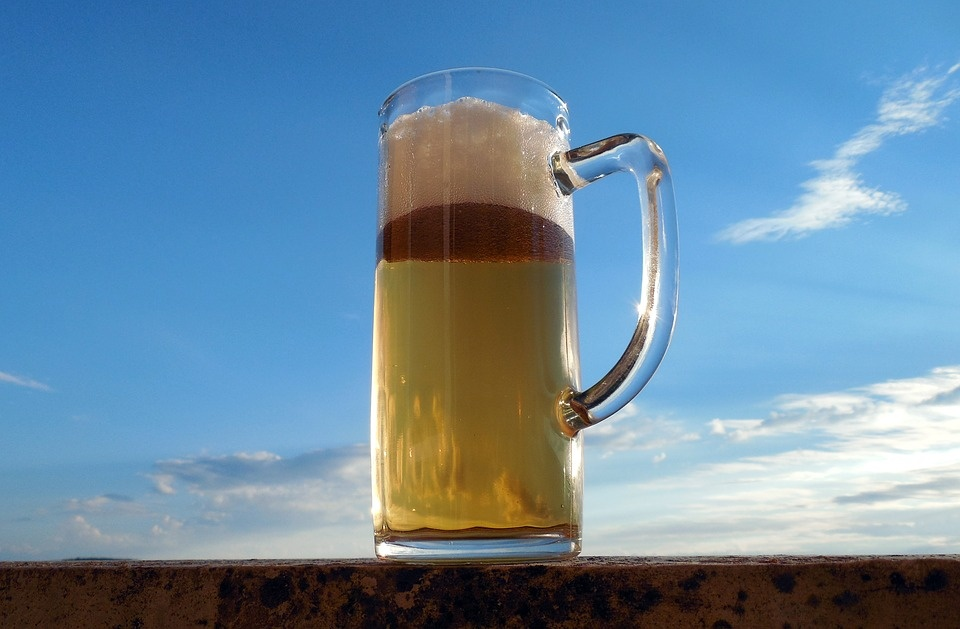glassBeer: (374, 80, 596, 549)
